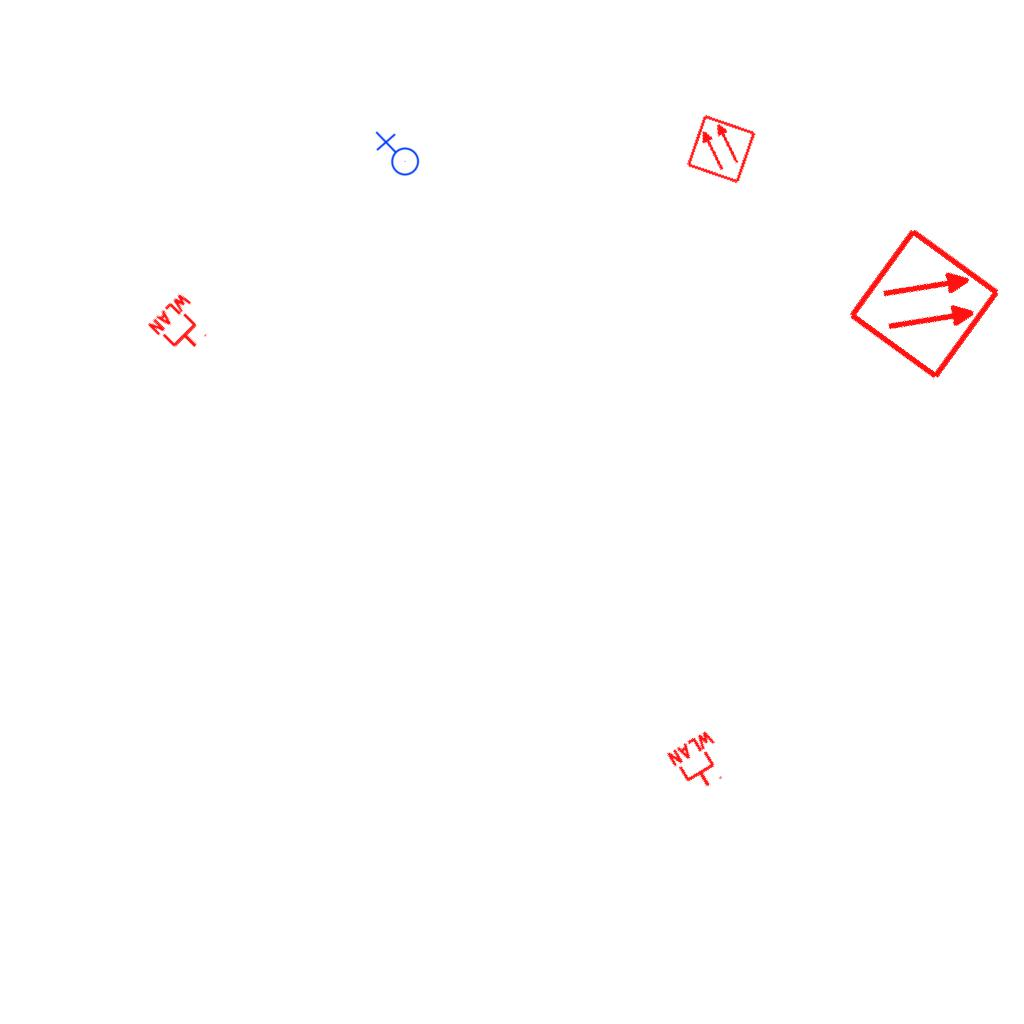Elektroanschluss_allgemein_230V_Geraeteanschlussdose_230V: (373, 131, 420, 180)
RMO_Rauchmelder_optischer: (845, 224, 1004, 383), (685, 113, 757, 185)
WLAN: (145, 289, 219, 363), (664, 727, 736, 799)
